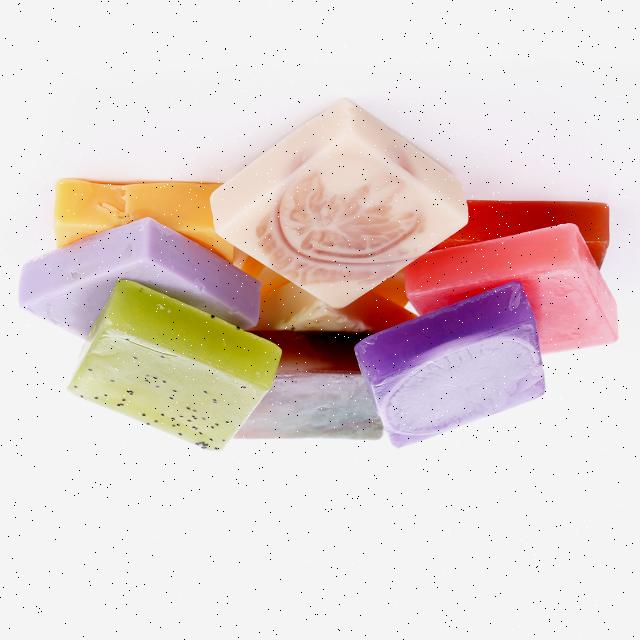soap: (196, 83, 478, 333), (65, 286, 291, 462), (343, 277, 551, 457)
